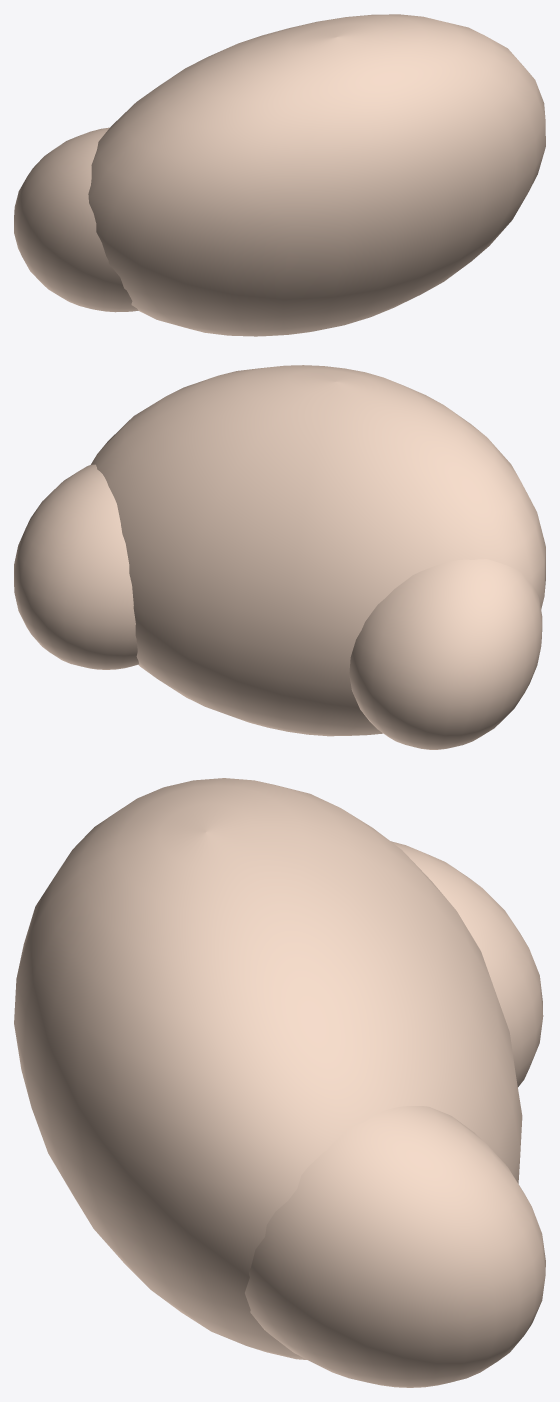
File: female_nose_ref05_v5.glb
The picture shows the model from 3 angles, top to bottom: view 1: azimuth 30°, elevation 25°; view 2: azimuth 150°, elevation 25°; view 3: azimuth 270°, elevation 25°; orthographic projection. The views are drawn at different scales.
Parts seen in each view (by area): view 1: Nose_Tip, Nose_Wing_-1; view 2: Nose_Tip, Nose_Wing_-1, Nose_Wing_1; view 3: Nose_Tip, Nose_Wing_1, Nose_Wing_-1.
Boxes of the visible parts, x1,y1,x2,y2 form: Nose_Tip: (88, 14, 545, 336); Nose_Wing_-1: (14, 127, 138, 312); Nose_Tip: (91, 365, 545, 736); Nose_Wing_-1: (349, 559, 542, 749); Nose_Wing_1: (14, 464, 138, 669); Nose_Tip: (14, 778, 522, 1359); Nose_Wing_1: (245, 1106, 545, 1387); Nose_Wing_-1: (390, 841, 543, 1086).
Bounding box in the file's own units: 0.0574 × 0.034 × 0.0345.
